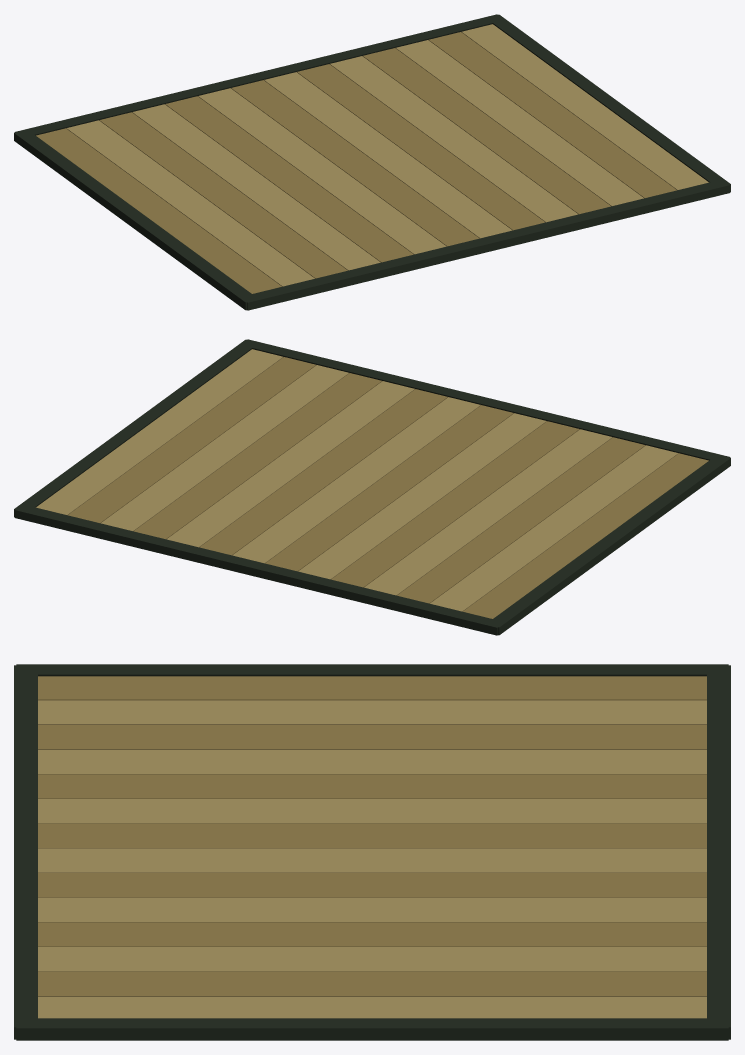
File: wanage_mat.glb
3 views of the same model, one above another, from view 1: azimuth 30°, elevation 25°; view 2: azimuth 150°, elevation 25°; view 3: azimuth 270°, elevation 25° (orthographic). The views are drawn at different scales.
Parts seen in each view (by area): view 1: mat; view 2: mat; view 3: mat.
Boxes of the visible parts, x1=… form: mat: x1=14, y1=14, x2=730, y2=310; mat: x1=14, y1=339, x2=730, y2=635; mat: x1=14, y1=664, x2=730, y2=1040.
Bounding box in the file's own units: 1.79 × 0.028 × 1.49.
